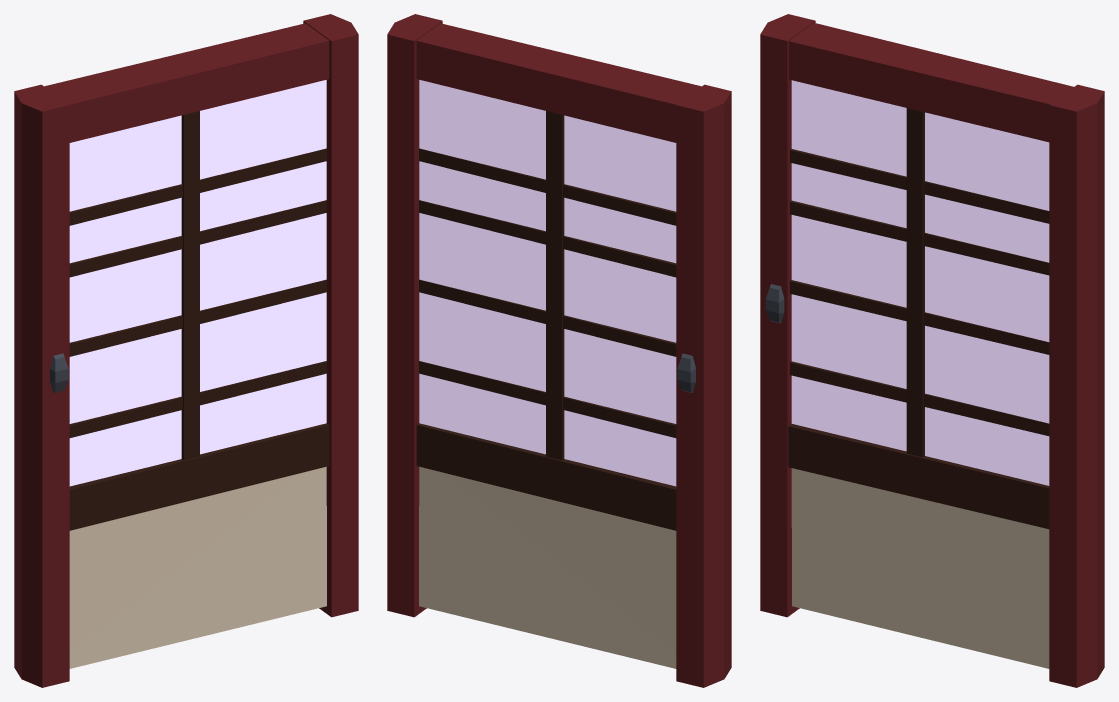
The model's file is Door_1_1  Asia.fbx.
3 views of the same model, side by side, from view 1: azimuth 30°, elevation 25°; view 2: azimuth 150°, elevation 25°; view 3: azimuth 330°, elevation 25° (orthographic).
Visible parts, largest first — view 1: Door_1_1; view 2: Door_1_1; view 3: Door_1_1.
Boxes of the visible parts, bbox=[...] form: Door_1_1: bbox=[14, 14, 358, 687]; Door_1_1: bbox=[387, 14, 731, 687]; Door_1_1: bbox=[760, 14, 1104, 687].
Bounding box in the file's own units: 1.14 × 1.9 × 0.2126.
